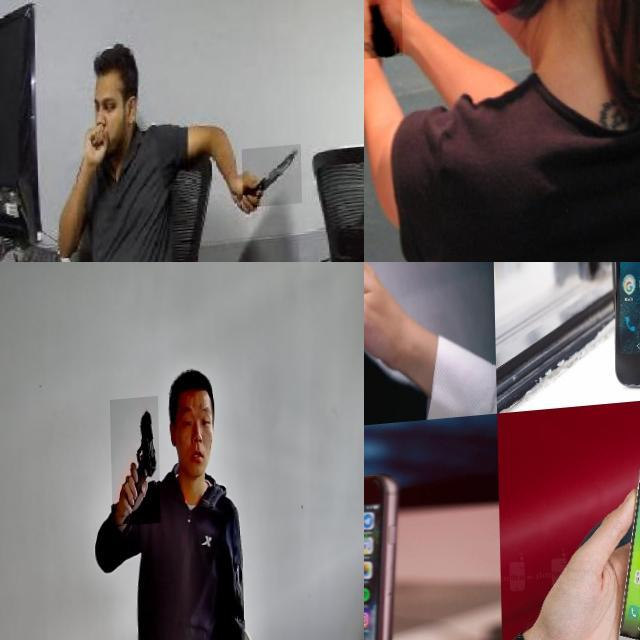-: (240, 150, 300, 213)
gun-knife-thesis - v11 Yolov5 augmented: (109, 403, 159, 533), (364, 0, 401, 64)
